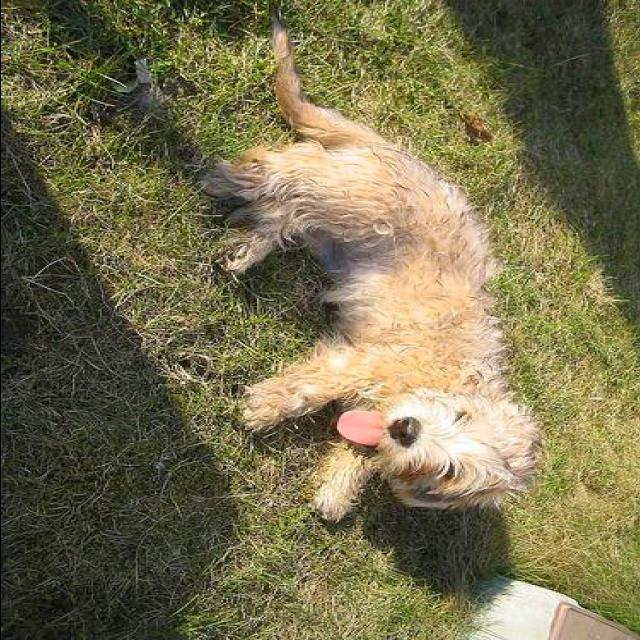dandie_dinmont: (191, 1, 541, 525)
